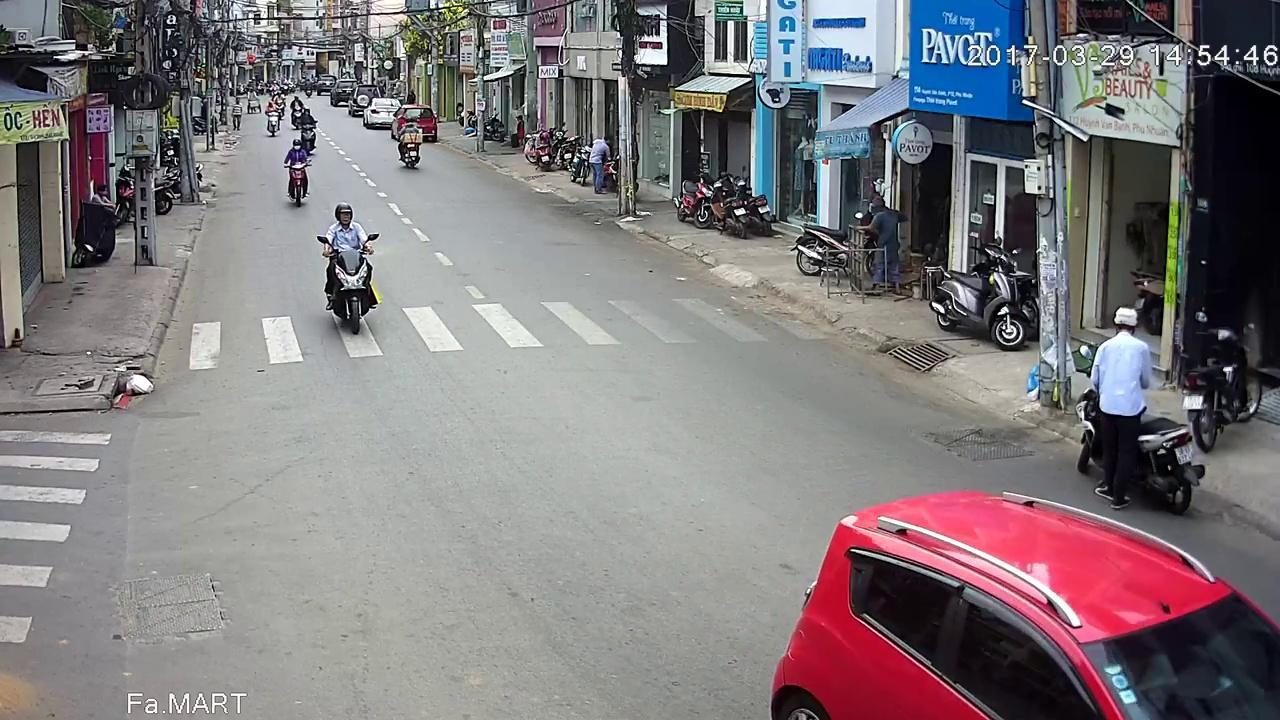xe hoi: (765, 460, 1278, 720), (393, 102, 440, 139)
xe may: (321, 200, 385, 335), (281, 137, 310, 208), (395, 119, 420, 169), (297, 110, 318, 158)
